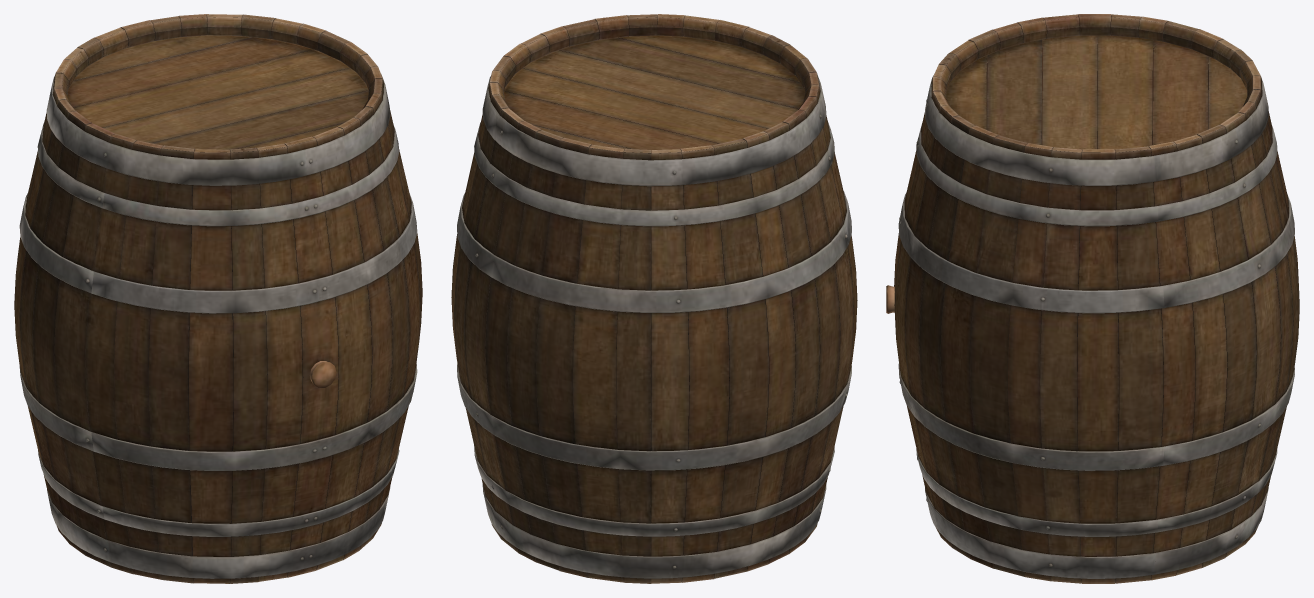
Rendered from wine_barrel_01.glb.
The picture shows the model from 3 angles, left to right: view 1: azimuth 30°, elevation 25°; view 2: azimuth 150°, elevation 25°; view 3: azimuth 270°, elevation 25°; orthographic projection.
Visible parts, largest first — view 1: wine_barrel_01, wine_barrel_01_Lid, wine_barrel_01_bung; view 2: wine_barrel_01, wine_barrel_01_Lid; view 3: wine_barrel_01, wine_barrel_01_Lid.
Part boxes in pixels (x1,y1,x2,y2): wine_barrel_01: [14, 14, 422, 583]; wine_barrel_01_Lid: [67, 35, 368, 149]; wine_barrel_01_bung: [309, 361, 336, 387]; wine_barrel_01: [451, 14, 857, 583]; wine_barrel_01_Lid: [504, 35, 805, 152]; wine_barrel_01: [894, 14, 1299, 583]; wine_barrel_01_Lid: [946, 35, 1247, 149].
Bounding box in the file's own units: 0.7419 × 0.8713 × 0.756.
Materials: 1 (1 with a texture image).
